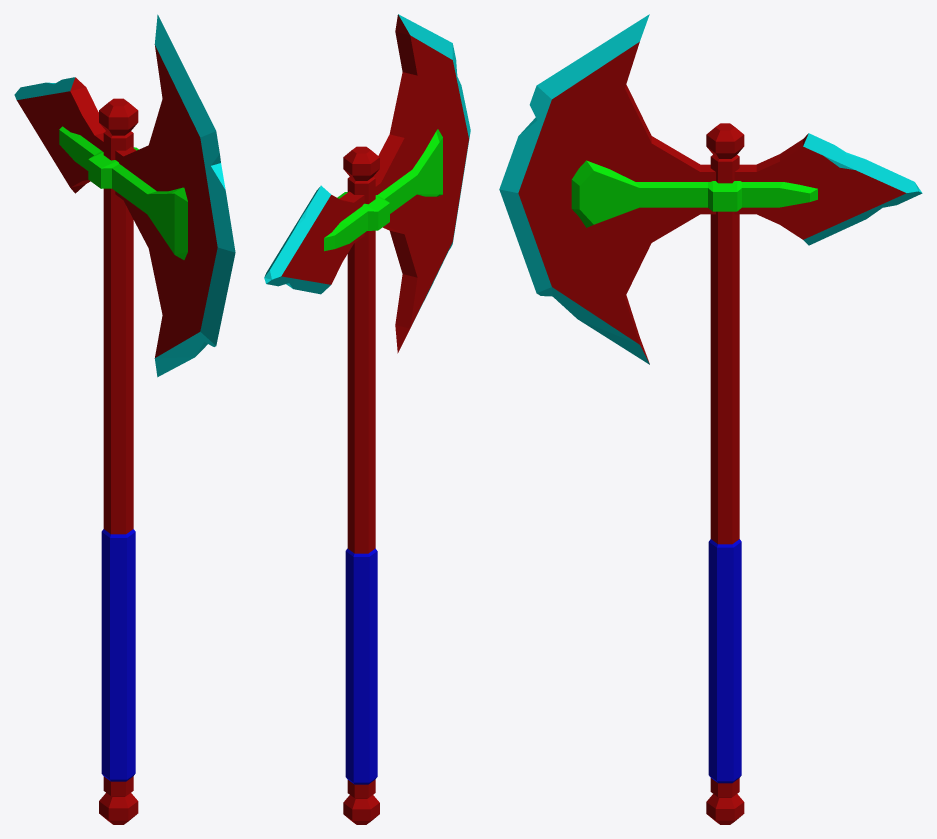
Rendered from Greataxe_Common_Crude.fbx.
The picture shows the model from 3 angles, left to right: view 1: azimuth 30°, elevation 25°; view 2: azimuth 150°, elevation 25°; view 3: azimuth 270°, elevation 25°; orthographic projection. The views are drawn at different scales.
Visible parts, largest first — view 1: SM_Wep_Axe_02; view 2: SM_Wep_Axe_02; view 3: SM_Wep_Axe_02.
Boxes of the visible parts, box(x1,y1,x2,y2) form: SM_Wep_Axe_02: box(14, 14, 235, 824); SM_Wep_Axe_02: box(264, 14, 470, 824); SM_Wep_Axe_02: box(499, 14, 922, 824).
Size of the model in its own units: 9.09 by 150 by 71.52.
